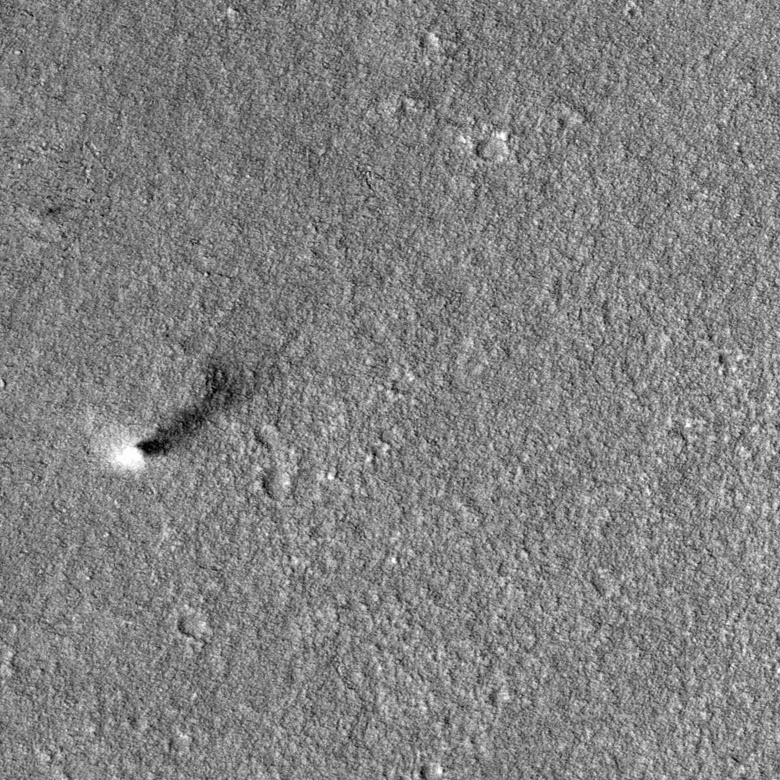dust_devil: (110, 360, 263, 476)
